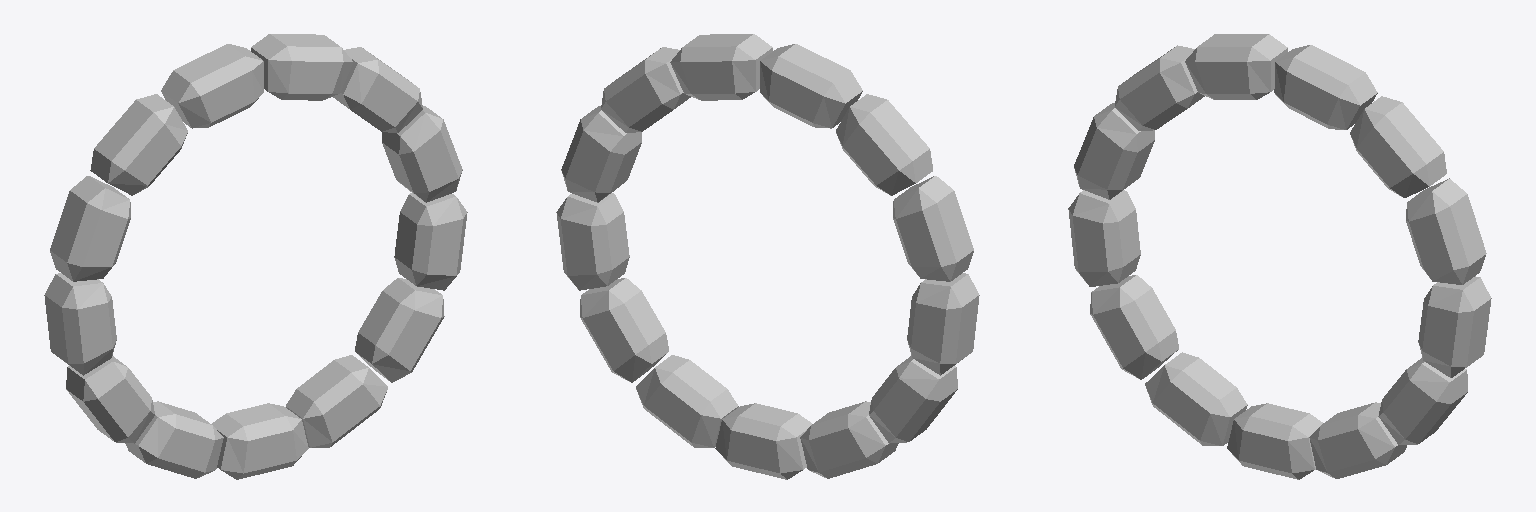
The model's file is firestones.obj.
3 renders of one model, left to right at view 1: azimuth 30°, elevation 25°; view 2: azimuth 150°, elevation 25°; view 3: azimuth 330°, elevation 25°, orthographic.
Parts seen in each view (by area): view 1: Cube.001; view 2: Cube.001; view 3: Cube.001.
Boxes of the visible parts, <box> form: Cube.001: <box>44,34,467,479</box>; Cube.001: <box>556,34,979,479</box>; Cube.001: <box>1068,34,1491,479</box>.
Bounding box in the file's own units: 1.44 × 1.43 × 0.1789.